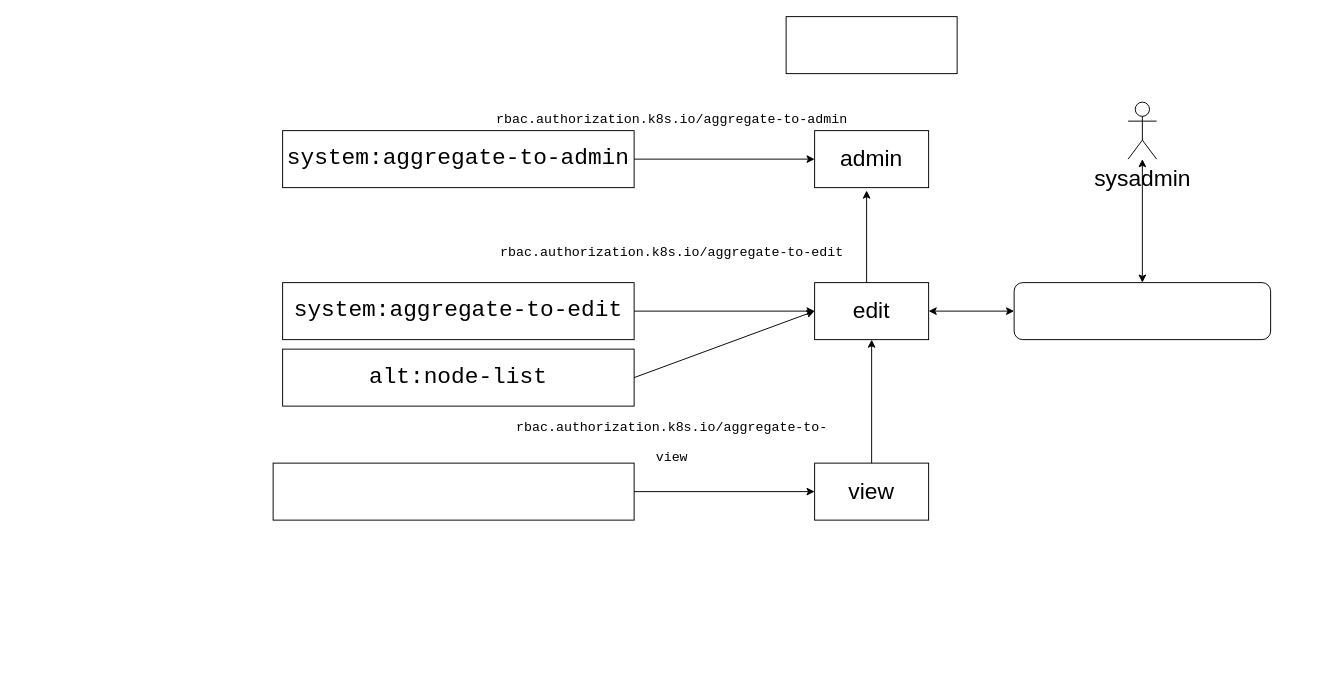
The diagram is 1343 pixels wide and 698 high, and some of its shapes have lost their labels. Each missing label, with the centre of its shape:
"cluster-admin" goes at (x=871, y=45).
"clusterrolebinding sysadmin" goes at (x=1142, y=311).
"system:aggregate-to-view" goes at (x=453, y=491).
